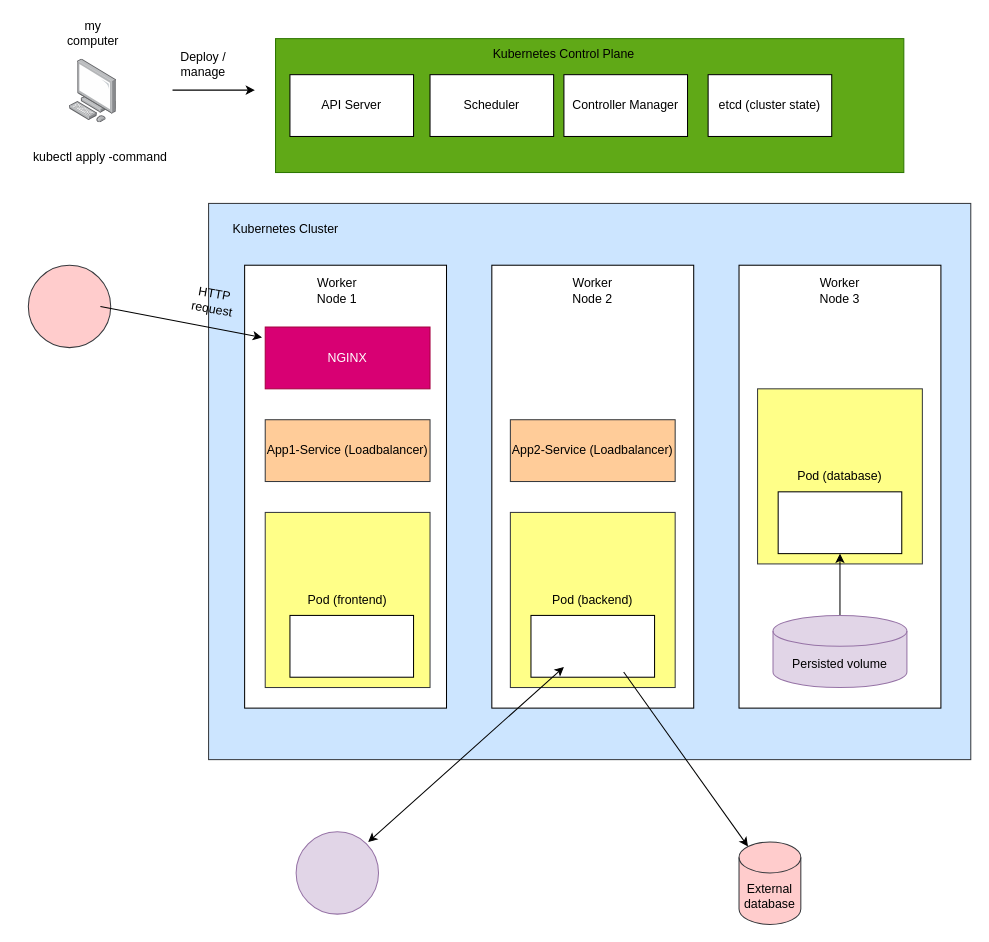
Image size: 989x942. Some labels were removed from this diagram. The centre of each missing label's shape, as x and y in pixels:
Container (backend): the point at 592,645
Container (frontend): the point at 351,645
Container (postgres): the point at 839,522
External API payment service: the point at 337,872
Internet: the point at 69,306
